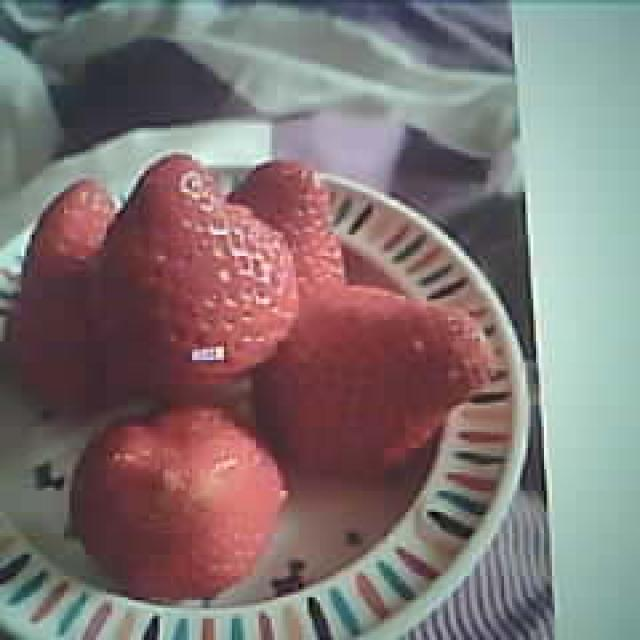strawberry: (100, 152, 295, 380), (263, 281, 488, 468), (73, 402, 285, 597)
